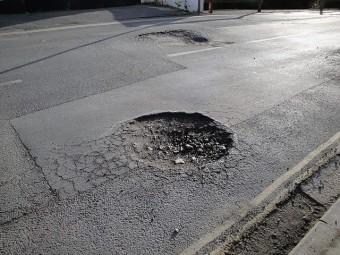pothole: (108, 96, 237, 179)
